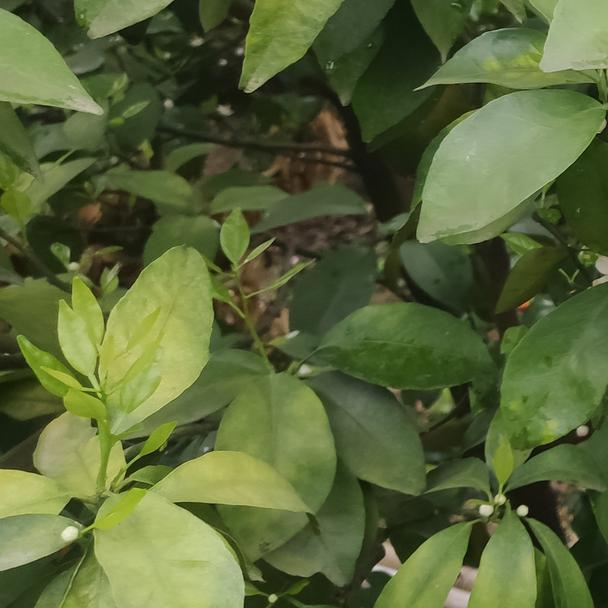shoot: (56, 277, 155, 457), (203, 225, 303, 360)
